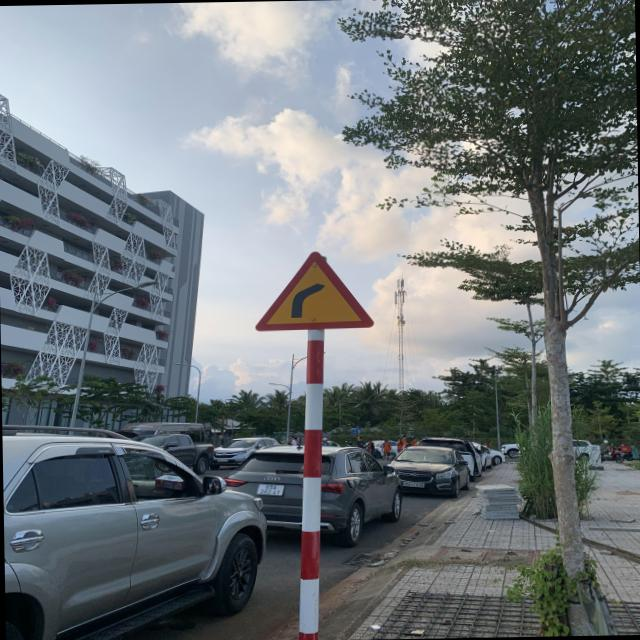Duong_Nguoi_Di_Bo_Cat_Ngang: (250, 248, 373, 330)
